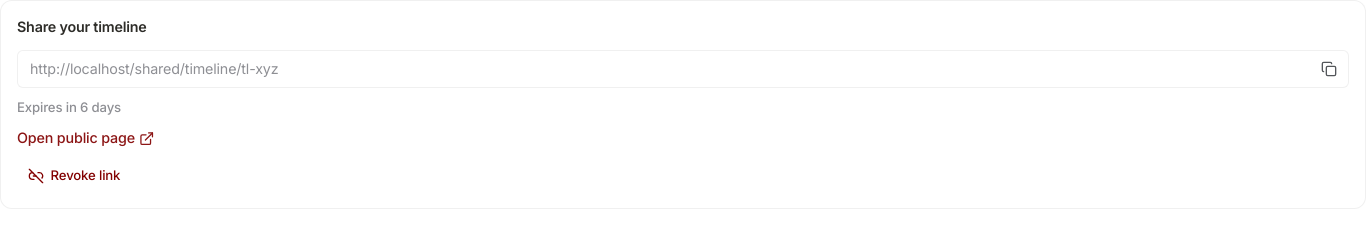
Test: ShareTimeline › should show copied state after copy button is clicked
The image size is (1366, 226).
Click the button named "copy timeline link": coordinates (1329, 69) [1315,54,1344,84]
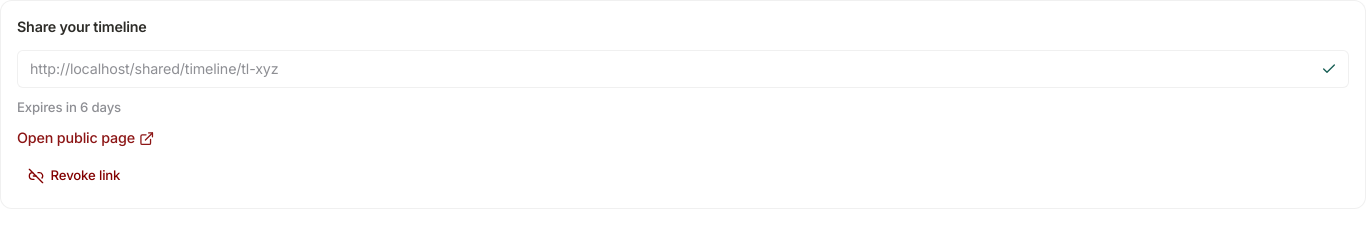
Check: the button named "link copied" is shown, box [1315,54,1344,84]
